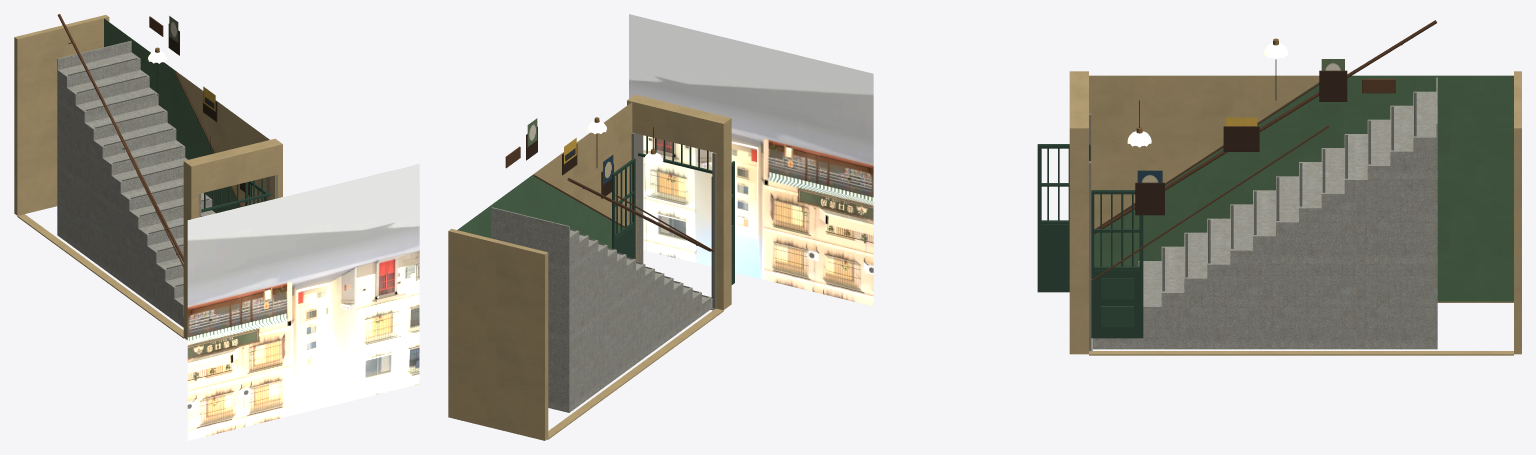
Rendered from mokuyobi_stair.glb.
3 views of the same model, side by side, from view 1: azimuth 30°, elevation 25°; view 2: azimuth 150°, elevation 25°; view 3: azimuth 270°, elevation 25° (orthographic). The views are drawn at different scales.
Parts seen in each view (by area): view 1: WALL_front_VIEW_mks_street_view, mks_step, WALL_back_mks_wall, WALL_front_mks_wall, WALL_right_mks_dado, WALL_right_mks_wall, mks_walnut, WALL_left_mks_wall, mks_vcm, WALL_front_mks_vcm, mks_vc, mks_print; view 2: WALL_front_VIEW_mks_street_view, mks_step, WALL_back_mks_wall, WALL_front_mks_wall, WALL_right_mks_wall, WALL_front_mks_vcm, WALL_right_mks_dado, WALL_left_mks_wall, mks_walnut, mks_print, mks_vc, mks_milkglass; view 3: mks_step, WALL_left_mks_dado, WALL_left_mks_wall, WALL_front_mks_vcm, WALL_front_mks_wall, mks_vc, mks_walnut, WALL_back_mks_wall, WALL_right_mks_wall, mks_vcm, mks_print, mks_milkglass.
Boxes of the visible parts, left/top/right/bottom form: WALL_front_VIEW_mks_street_view: left=187, top=163, right=419, bottom=440; mks_step: left=57, top=41, right=215, bottom=327; WALL_back_mks_wall: left=14, top=15, right=109, bottom=215; WALL_front_mks_wall: left=183, top=138, right=282, bottom=339; WALL_right_mks_dado: left=104, top=18, right=242, bottom=213; WALL_right_mks_wall: left=176, top=71, right=269, bottom=206; mks_walnut: left=57, top=14, right=242, bottom=266; WALL_left_mks_wall: left=17, top=214, right=184, bottom=338; mks_vcm: left=68, top=42, right=210, bottom=286; WALL_front_mks_vcm: left=198, top=175, right=277, bottom=217; mks_vc: left=168, top=24, right=251, bottom=196; mks_print: left=169, top=16, right=215, bottom=111; WALL_front_VIEW_mks_street_view: left=629, top=14, right=873, bottom=306; mks_step: left=491, top=207, right=716, bottom=412; WALL_back_mks_wall: left=448, top=228, right=548, bottom=440; WALL_front_mks_wall: left=627, top=94, right=731, bottom=310; WALL_right_mks_wall: left=534, top=102, right=632, bottom=226; WALL_front_mks_vcm: left=612, top=132, right=734, bottom=308; WALL_right_mks_dado: left=457, top=174, right=623, bottom=248; WALL_left_mks_wall: left=547, top=308, right=723, bottom=439; mks_walnut: left=505, top=146, right=714, bottom=251; mks_print: left=527, top=118, right=613, bottom=184; mks_vc: left=526, top=126, right=613, bottom=198; mks_milkglass: left=587, top=121, right=663, bottom=165; mks_step: left=1089, top=77, right=1437, bottom=351; WALL_left_mks_dado: left=1094, top=75, right=1513, bottom=301; WALL_left_mks_wall: left=1089, top=75, right=1513, bottom=302; WALL_front_mks_vcm: left=1037, top=113, right=1143, bottom=350; WALL_front_mks_wall: left=1069, top=71, right=1088, bottom=354; mks_vc: left=1135, top=70, right=1347, bottom=215; mks_walnut: left=1091, top=20, right=1436, bottom=280; WALL_back_mks_wall: left=1514, top=71, right=1521, bottom=354; WALL_right_mks_wall: left=1089, top=351, right=1513, bottom=355; mks_vcm: left=1127, top=38, right=1416, bottom=291; mks_print: left=1137, top=59, right=1344, bottom=182; mks_milkglass: left=1127, top=43, right=1287, bottom=147.
Bounding box in the file's own units: 4.4 × 4.73 × 7.96.
9 materials, 6 textured.
